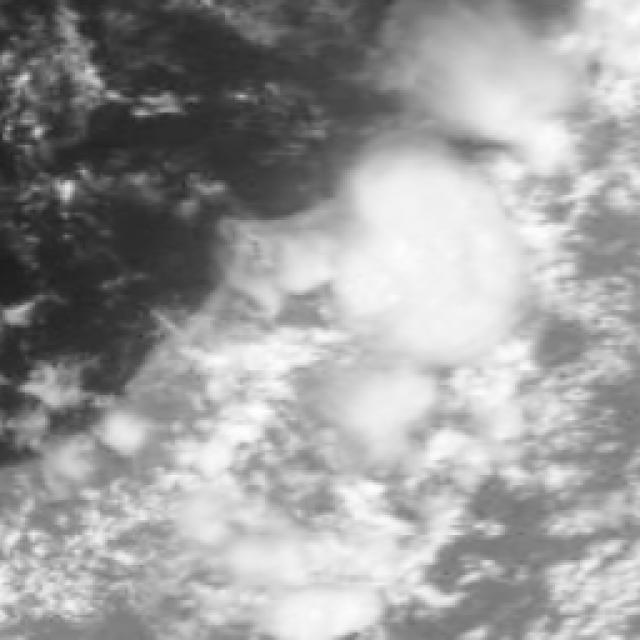CB: (362, 192, 504, 336)
